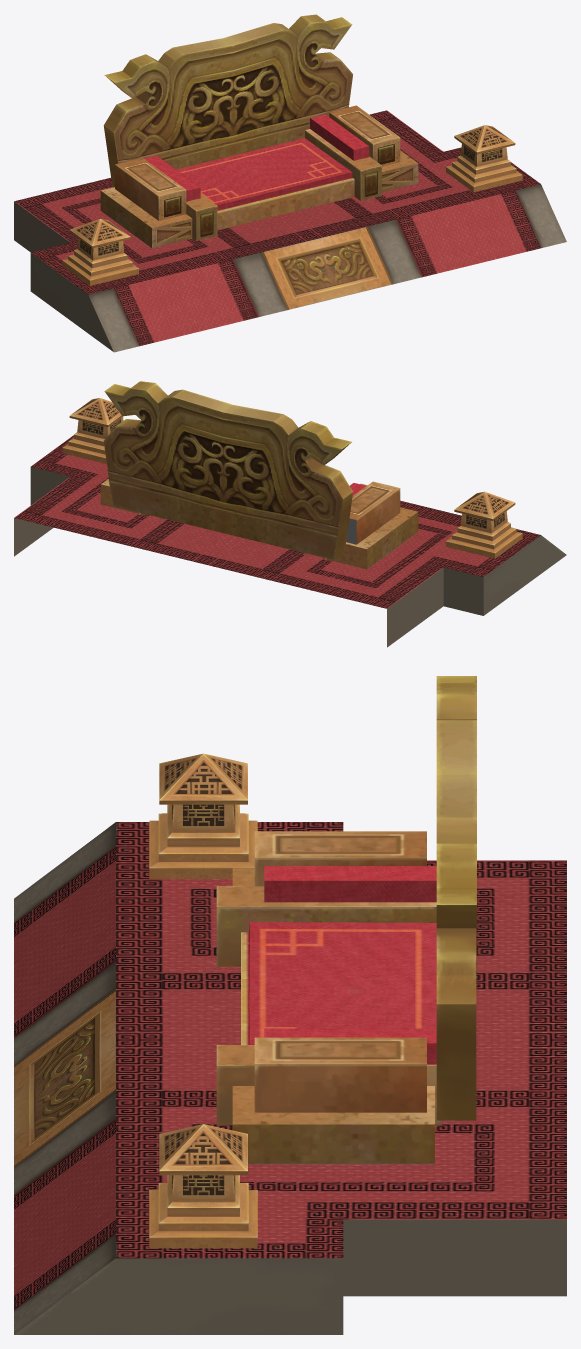
Rendered from FB_gongdain_09.FBX.
3 views of the same model, one above another, from view 1: azimuth 30°, elevation 25°; view 2: azimuth 150°, elevation 25°; view 3: azimuth 270°, elevation 25° (orthographic). The views are drawn at different scales.
Parts seen in each view (by area): view 1: Box06, Box03, Object02, Object03; view 2: Box03, Box06, Object03, Object02; view 3: Box06, Box03, Object02, Object03.
Part boxes in pixels (<box>): Box06: <box>14,110,566,352</box>; Box03: <box>100,14,418,248</box>; Object02: <box>446,125,522,192</box>; Object03: <box>62,219,138,285</box>; Box03: <box>100,381,418,569</box>; Box06: <box>14,435,566,647</box>; Object03: <box>446,491,522,558</box>; Object02: <box>62,398,123,463</box>; Box06: <box>14,822,566,1334</box>; Box03: <box>216,676,476,1164</box>; Object02: <box>149,1124,257,1248</box>; Object03: <box>149,753,257,878</box>.
Bounding box in the file's own units: 139 × 51.62 × 74.39.
